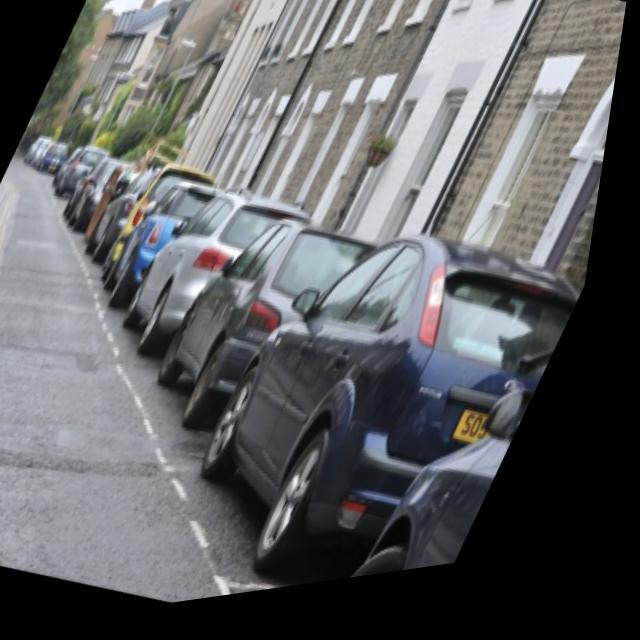license_plate: (464, 411, 516, 462)
